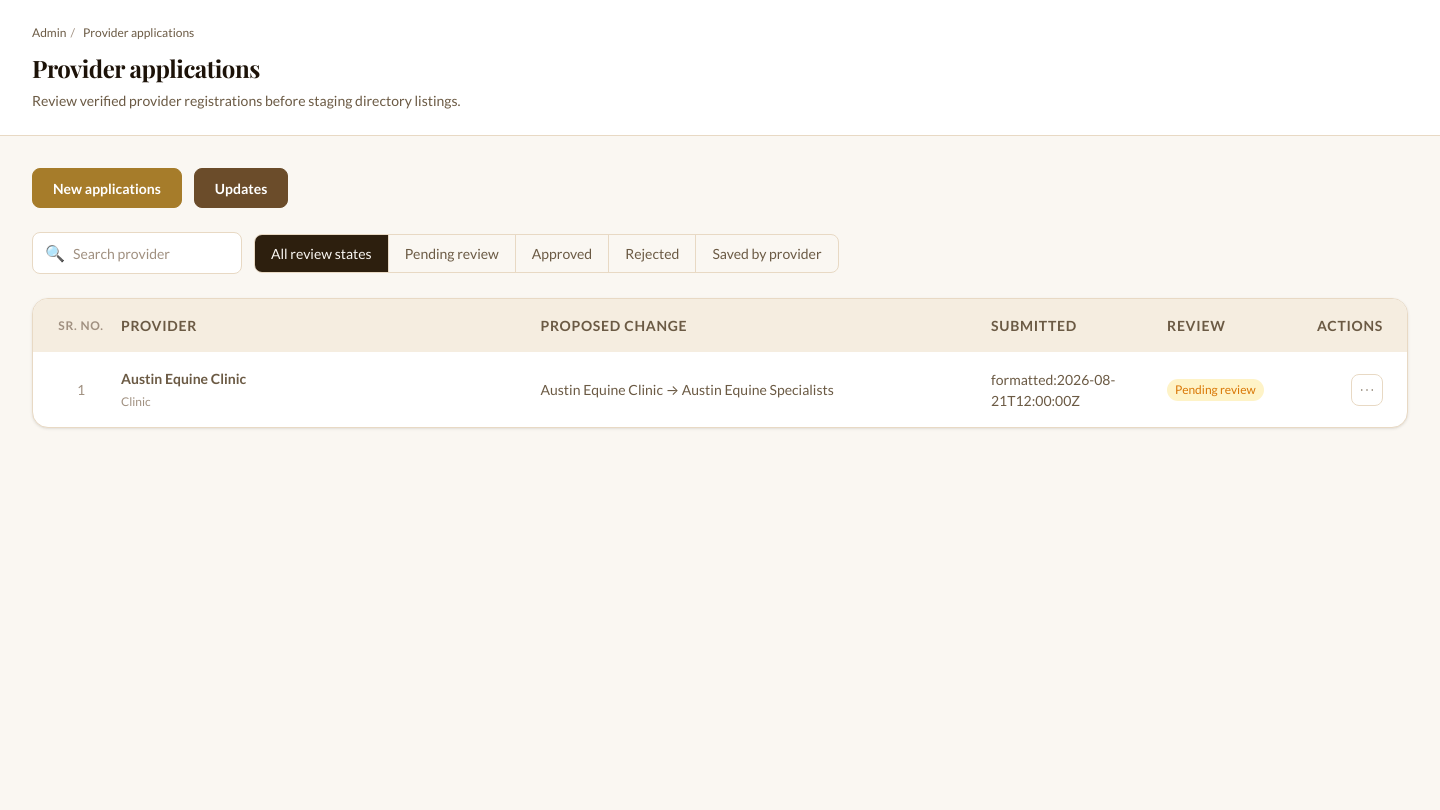
ProviderApplicationsPage › separates published profile updates into the Updates tab
Click the button named "Actions for Austin Equine Clinic update": [1367, 390] box [1351,374,1383,406]
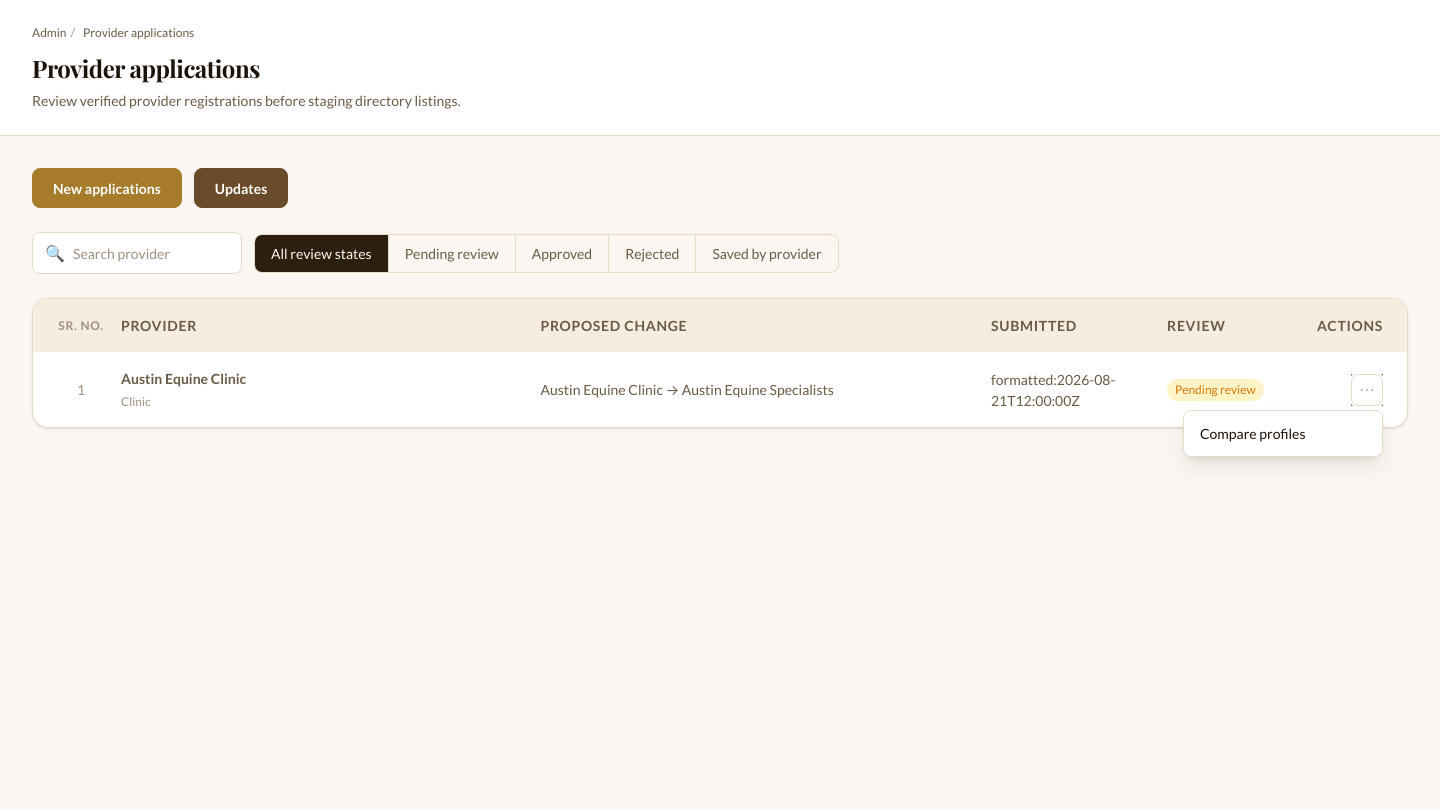
Click the menu item "Compare profiles": [1283, 433] box [1188,414,1378,452]
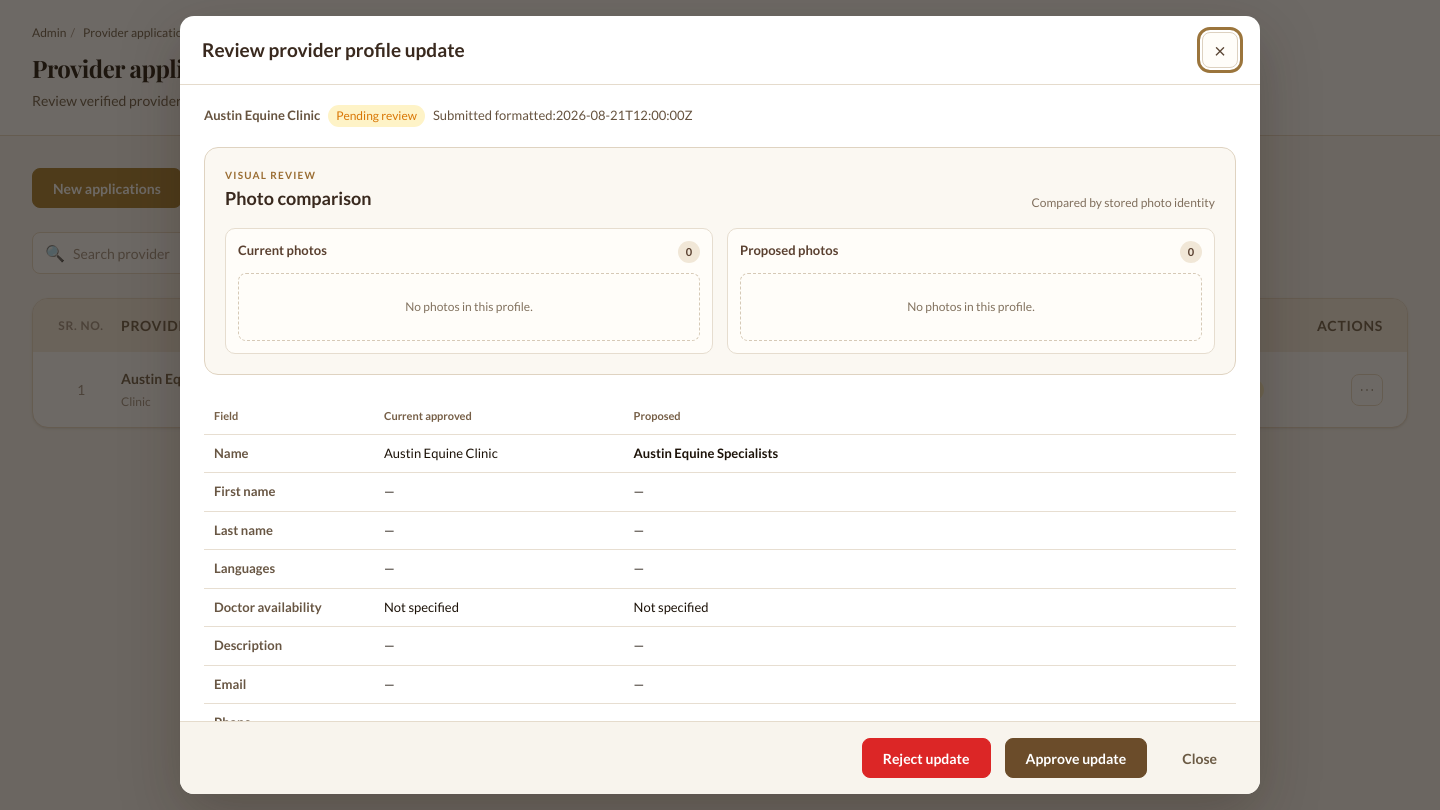
Now the column heading "Current approved" is shown, box [374,399,624,434]
Now the text "Austin Equine Specialists" is shown, box [624,434,1236,472]
